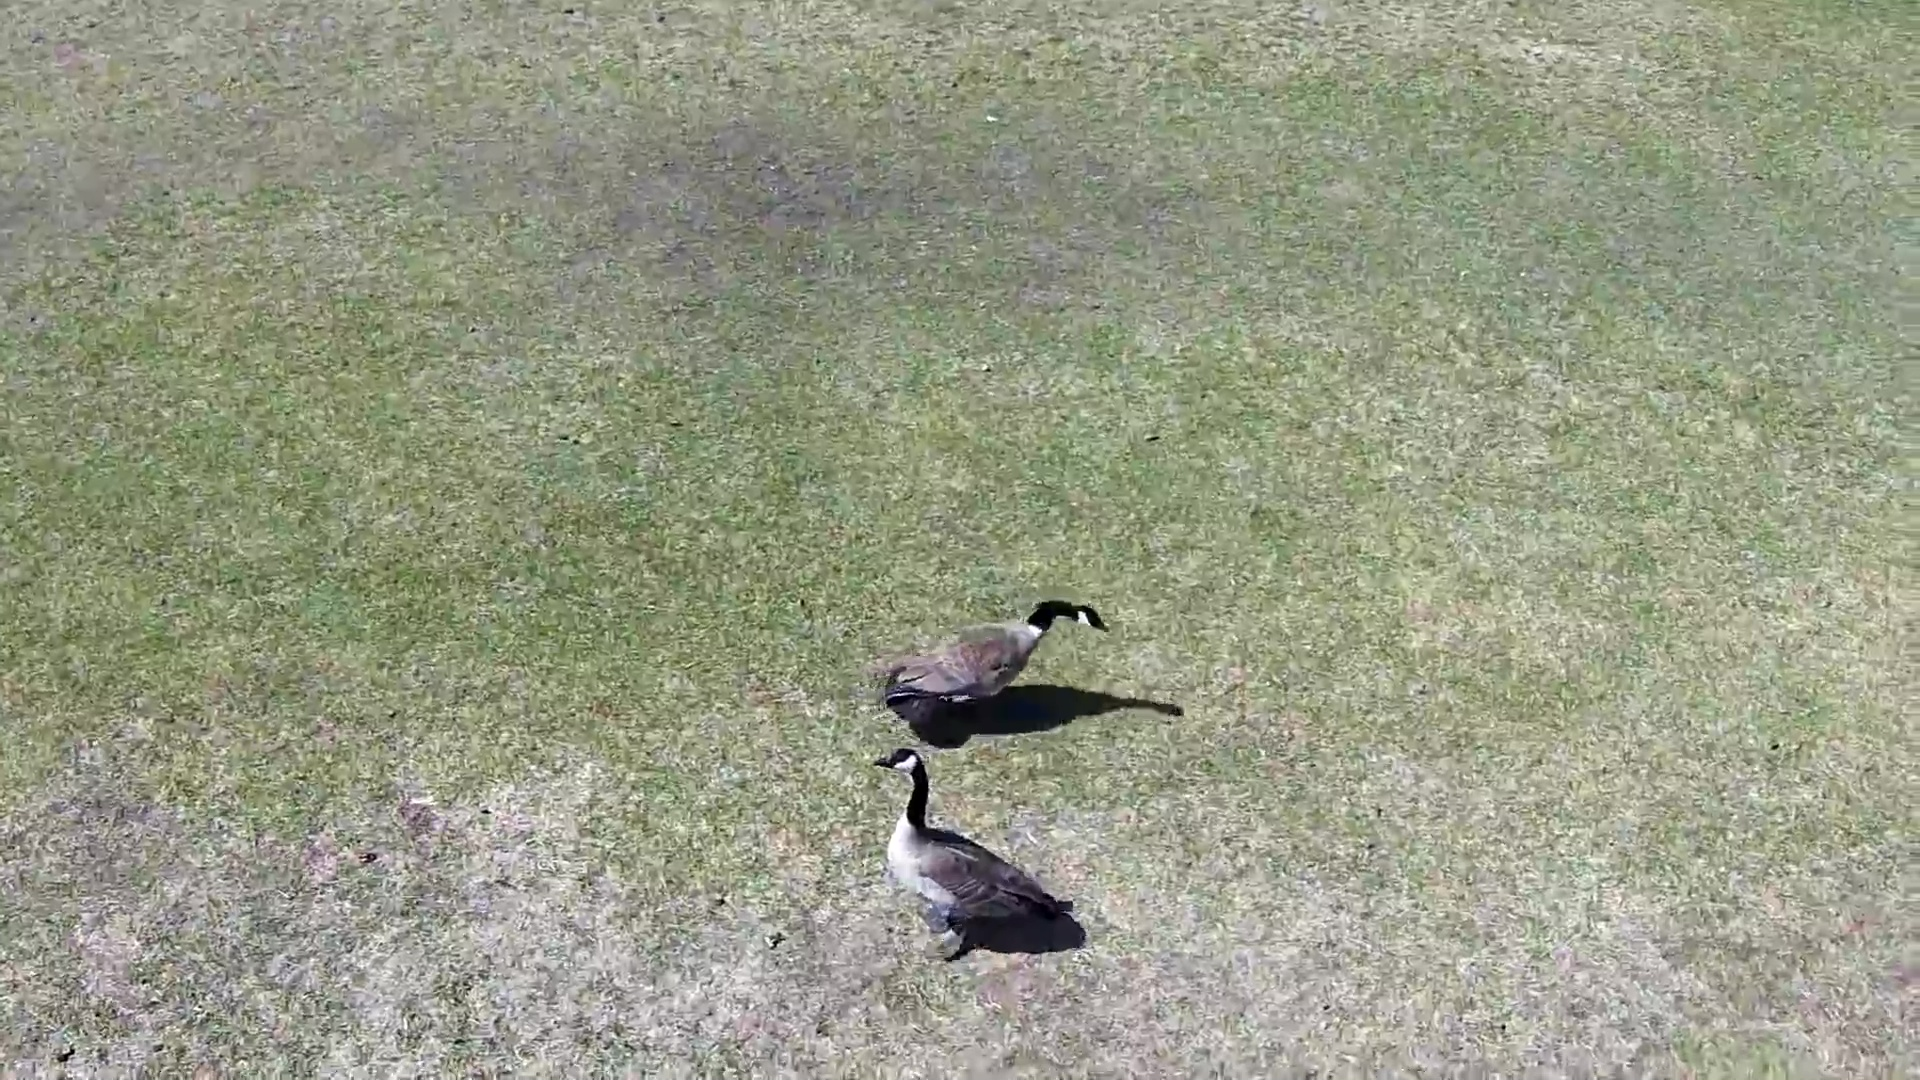goose: (872, 742, 1083, 960), (866, 601, 1110, 727)
